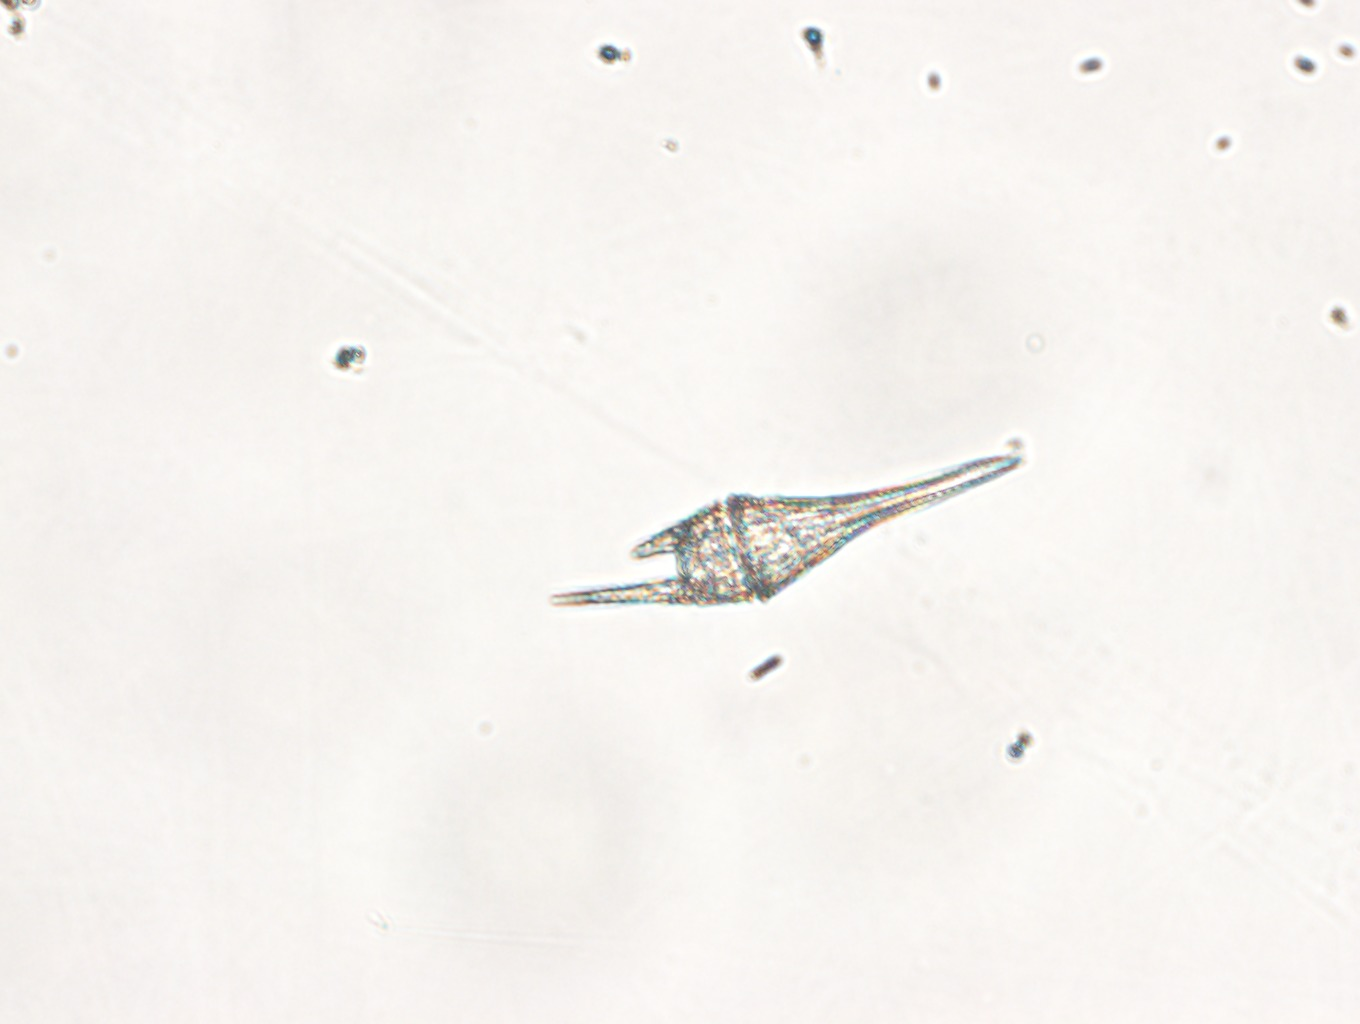ceratium furca: (544, 453, 1020, 609)
